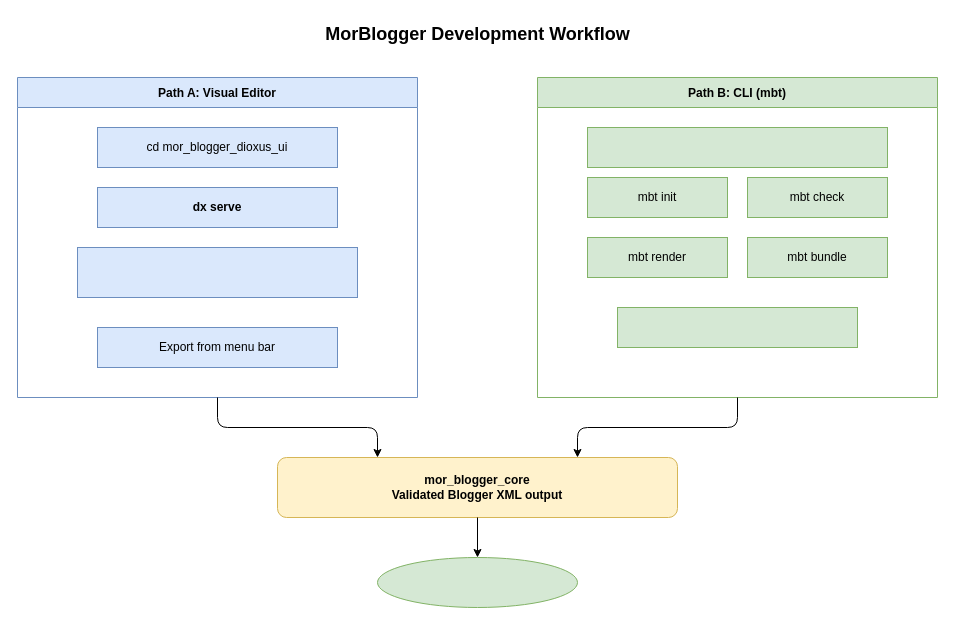
Image size: 955x625. Some labels were removed from this diagram. The shapes that lost their labels are listed below. From the top down, each one's centre as x and y in pixels, then its label:
At point 737,147: "cargo build --release -p mor_blogger_cli".
At point 217,272: "Visual edit + hot reload docks · ThemeSignals · preview".
At point 737,327: "CI/CD pipeline ready".
At point 477,582: "Upload to Blogger".
